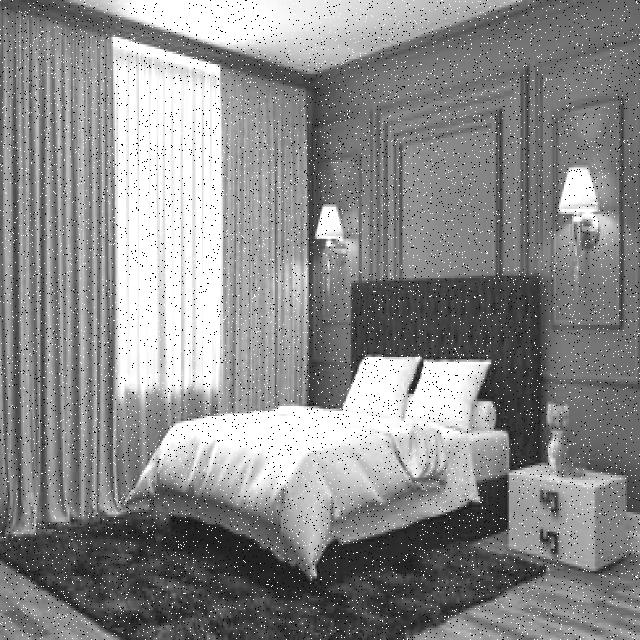bed: (137, 337, 523, 553)
